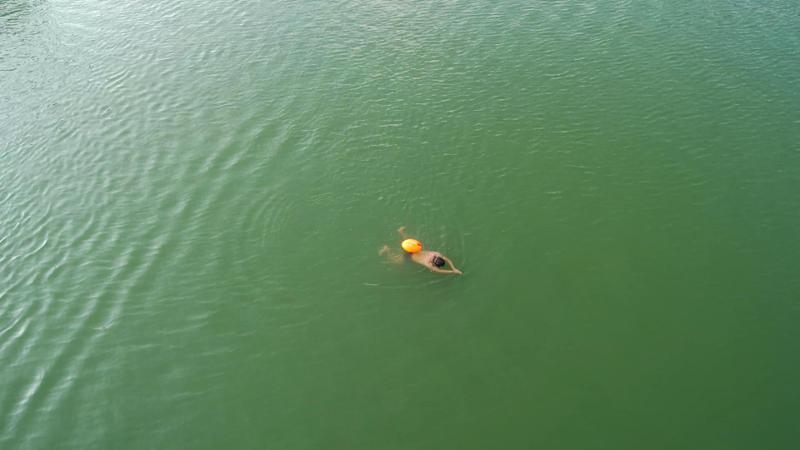swimmers: (377, 224, 462, 275)
